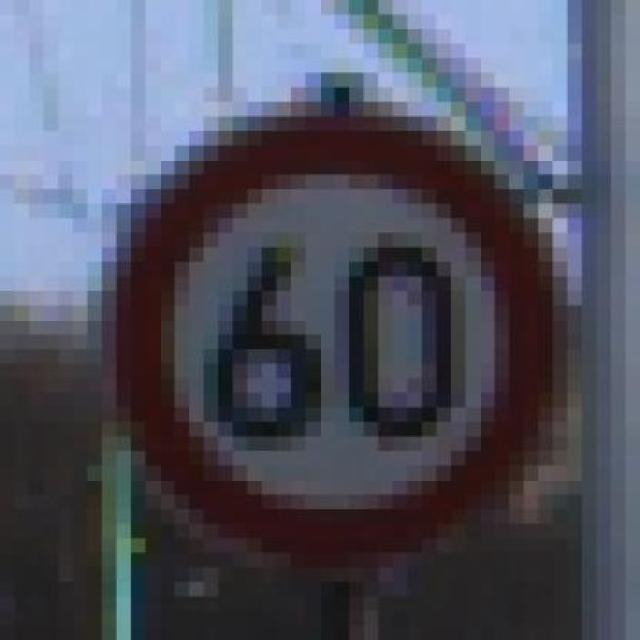forb_speed_over_60: (127, 123, 536, 542)
